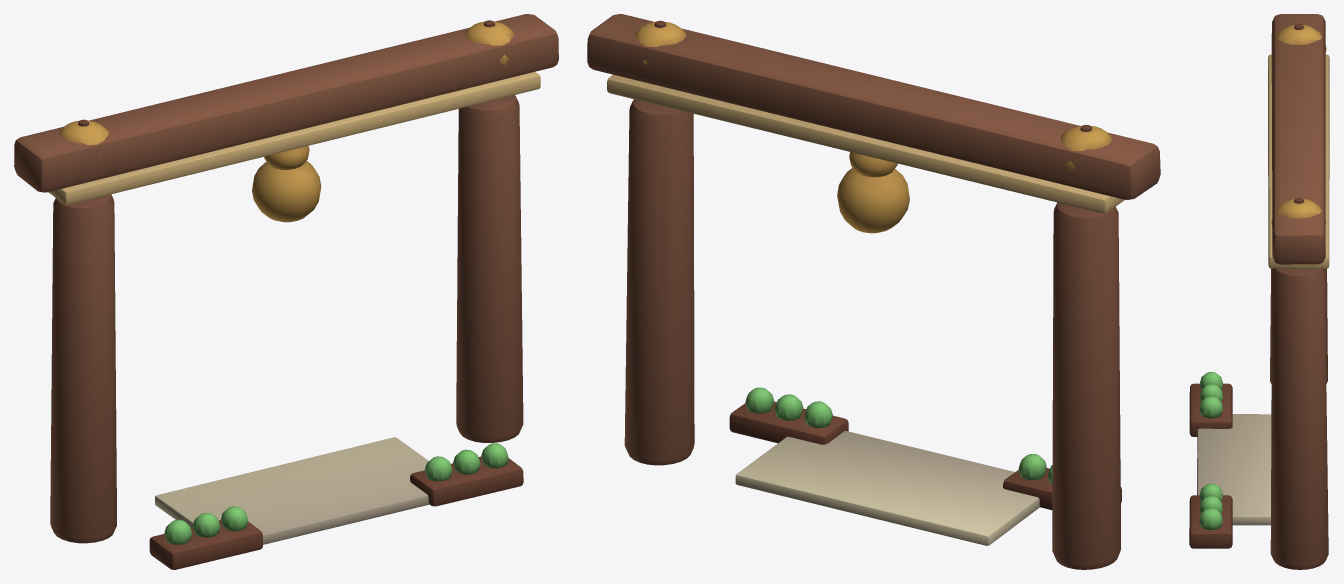
3 views of the same model, side by side, from view 1: azimuth 30°, elevation 25°; view 2: azimuth 150°, elevation 25°; view 3: azimuth 270°, elevation 25° (orthographic). The views are drawn at different scales.
Parts seen in each view (by area): view 1: gate_489f09ae; view 2: gate_489f09ae; view 3: gate_489f09ae.
Boxes of the visible parts, left/top/right/bottom form: gate_489f09ae: left=14, top=14, right=558, bottom=569; gate_489f09ae: left=587, top=14, right=1160, bottom=569; gate_489f09ae: left=1189, top=14, right=1329, bottom=569.
Bounding box in the file's own units: 5.19 × 3.92 × 1.37.
